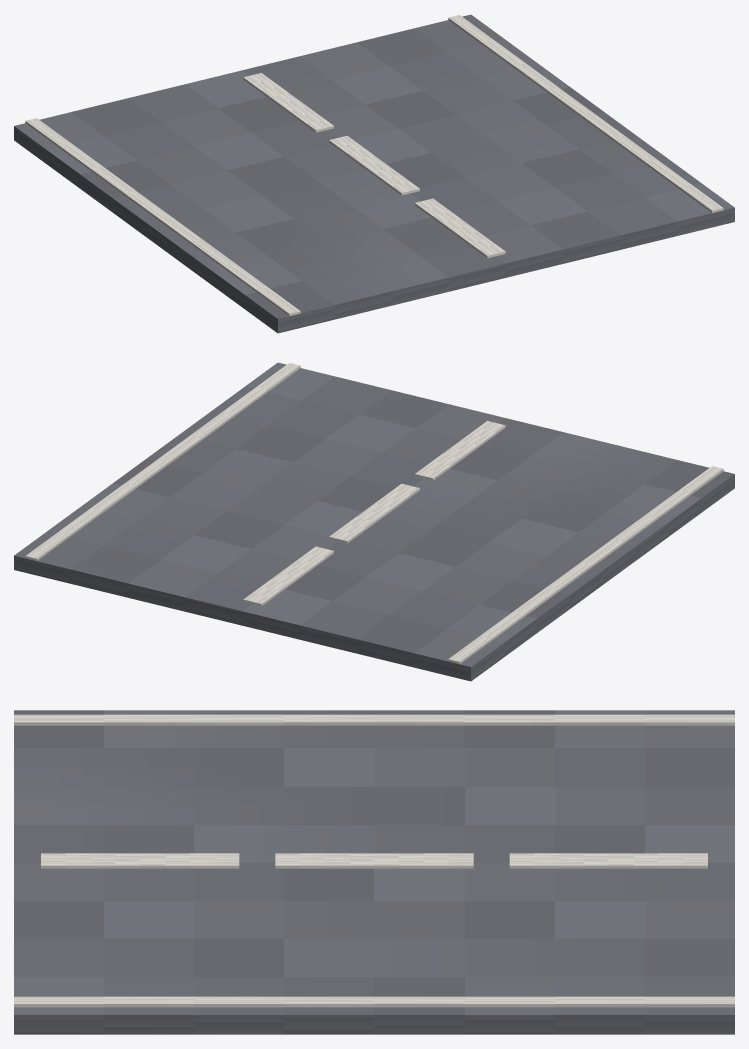
The model's file is pixel-modern-city-street-road-straight-f9ef0f66.glb.
3 views of the same model, one above another, from view 1: azimuth 30°, elevation 25°; view 2: azimuth 150°, elevation 25°; view 3: azimuth 270°, elevation 25° (orthographic). The views are drawn at different scales.
Parts seen in each view (by area): view 1: road-straight; view 2: road-straight; view 3: road-straight.
Boxes of the visible parts, x1,y1,x2,y2 form: road-straight: (14,14,734,333); road-straight: (14,362,734,681); road-straight: (14,710,734,1034).
Size of the model in its own units: 4 by 0.1401 by 4.
Materials: 2 (2 with a texture image).
